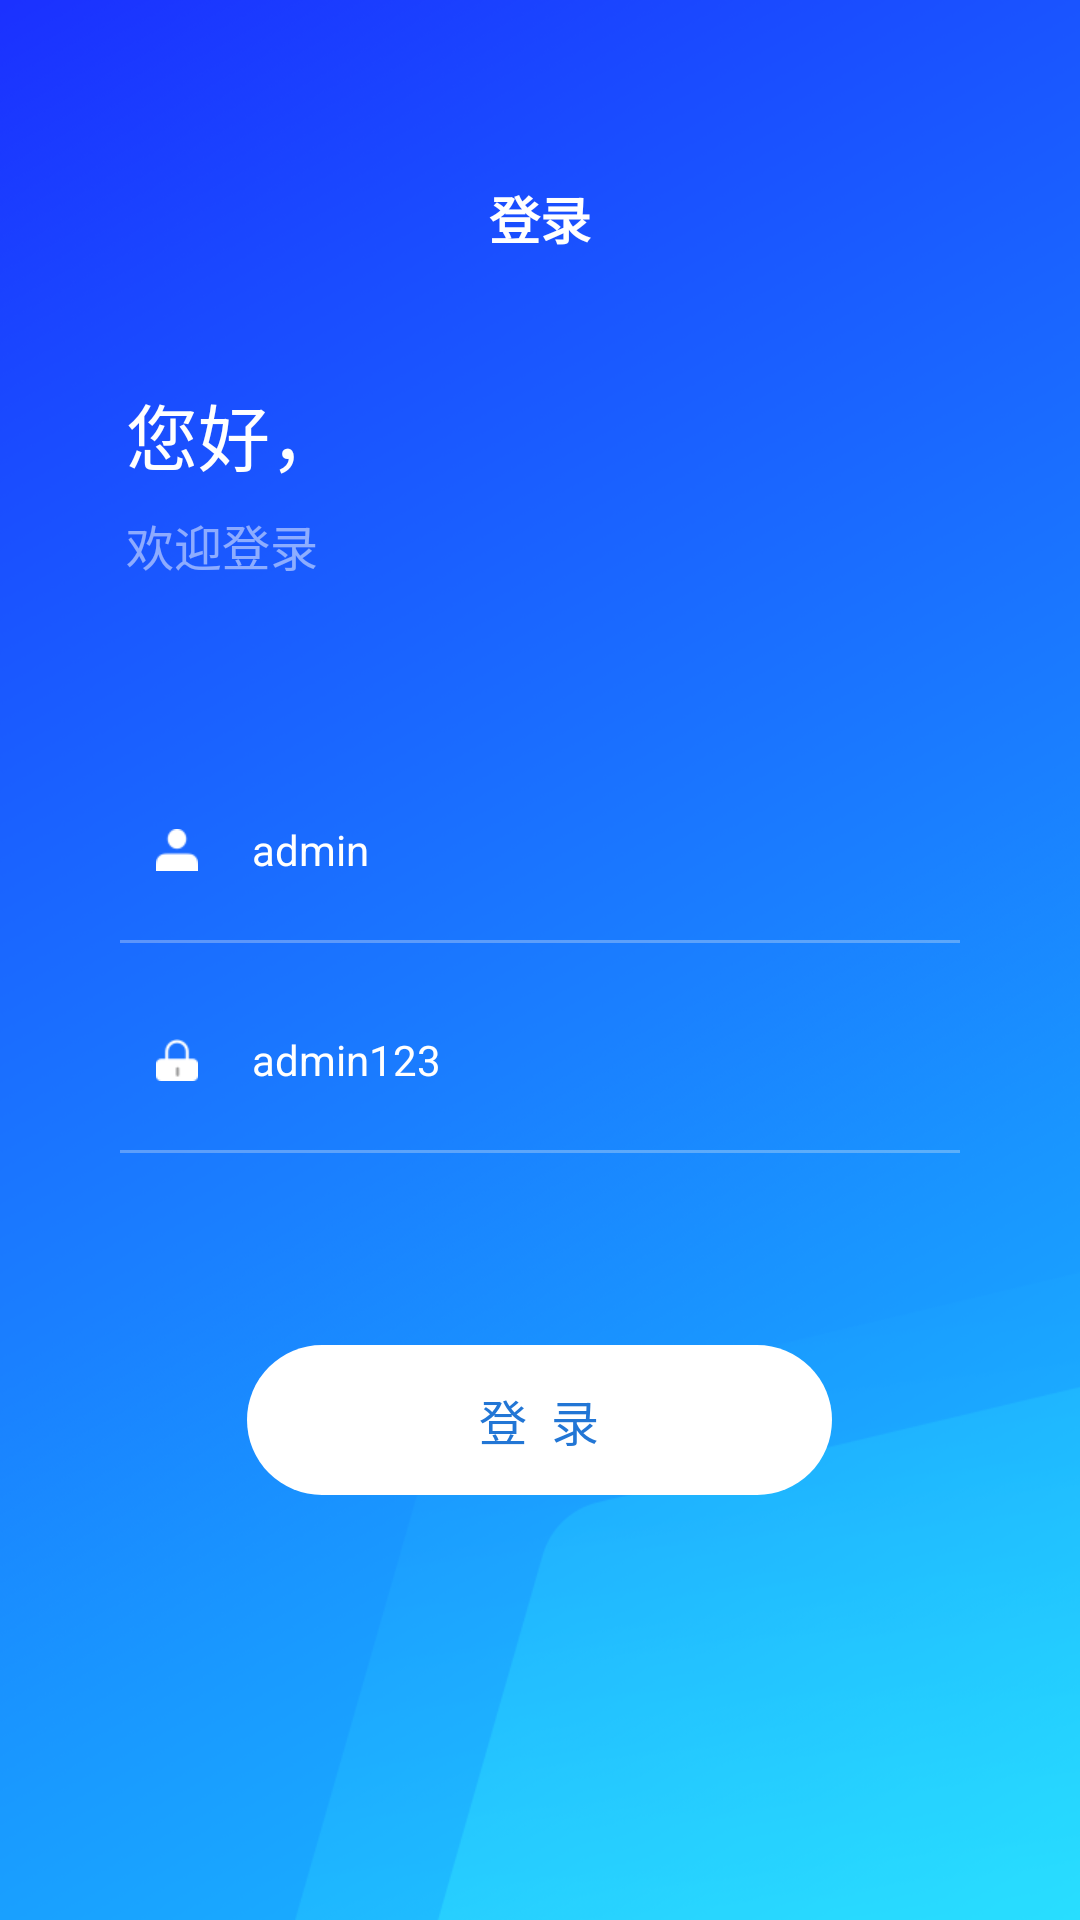

Screen size 1080 × 1920. Icon name, then its box in pixels as bbox=(x1, y1, x2, y2):
password: bbox=(156, 1039, 198, 1081)
user: bbox=(156, 829, 198, 871)
